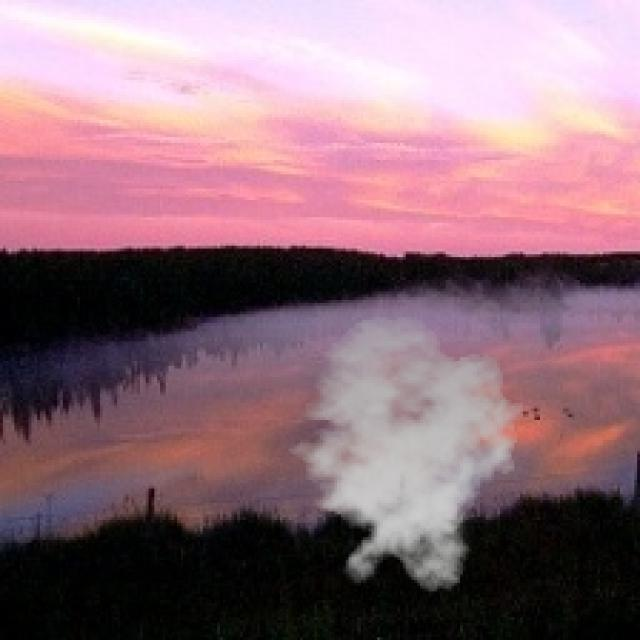Smoke: (277, 314, 532, 594)
